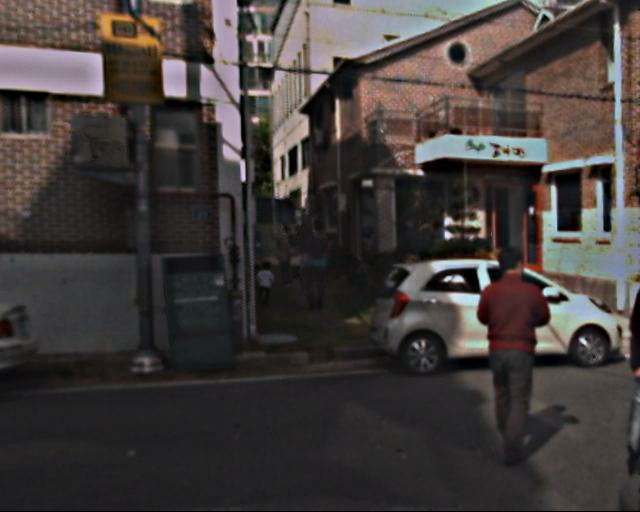person: (464, 247, 553, 466), (300, 222, 335, 307), (273, 222, 300, 289), (255, 260, 275, 307)
